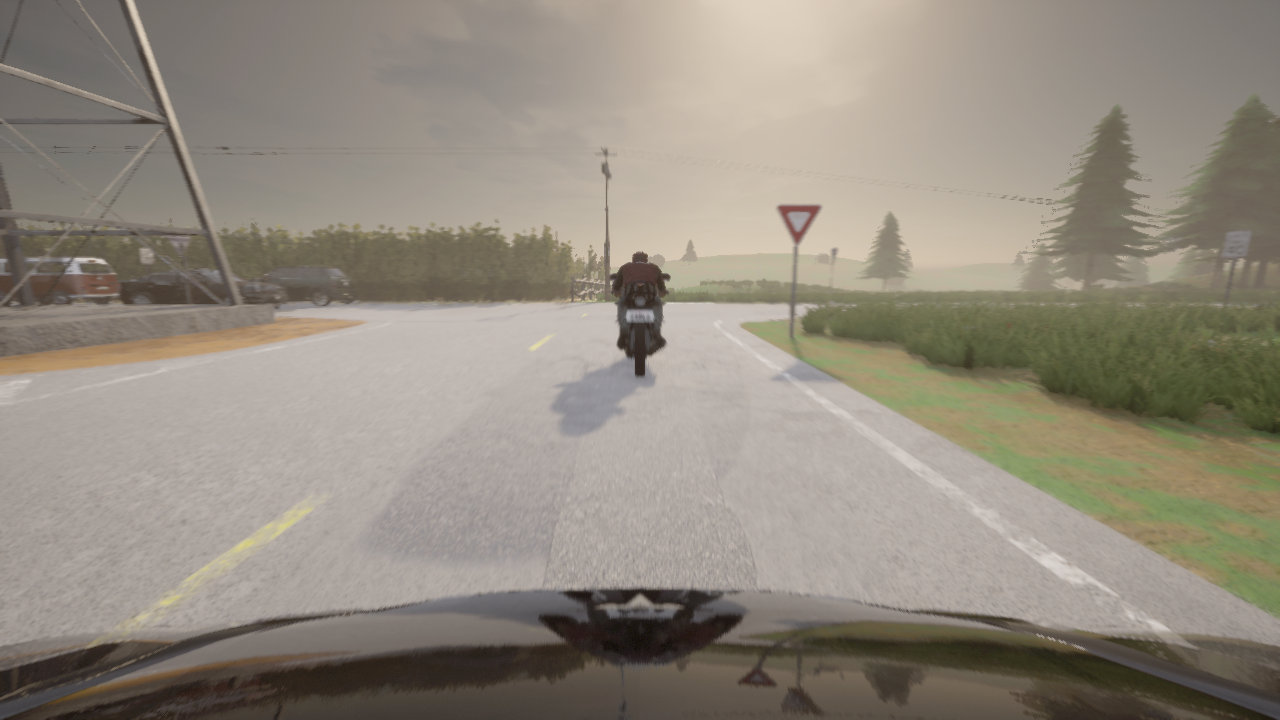cyclist: (0, 588, 1279, 719), (119, 268, 288, 309), (610, 274, 669, 376), (0, 256, 120, 305), (248, 265, 359, 306)
